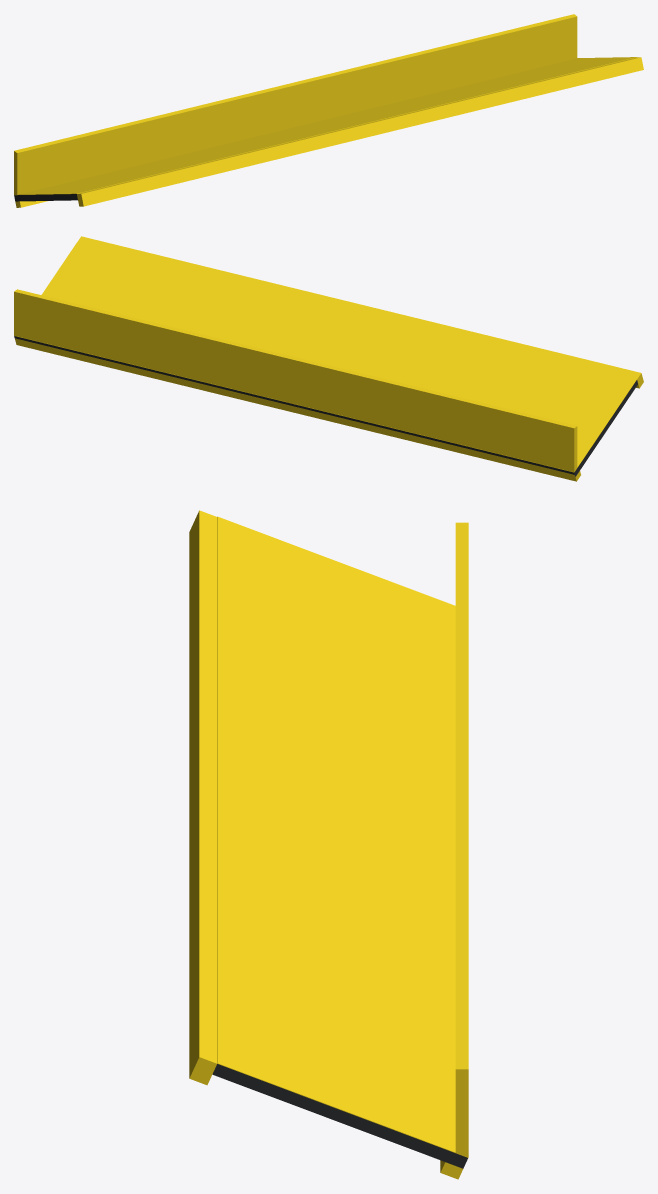
Rendered from tinker.obj.
3 renders of one model, top to bottom at view 1: azimuth 30°, elevation 25°; view 2: azimuth 150°, elevation 25°; view 3: azimuth 270°, elevation 25°, orthographic. The views are drawn at different scales.
Parts seen in each view (by area): view 1: group_0_16768282, group_0_2829873; view 2: group_0_16768282, group_0_2829873; view 3: group_0_16768282, group_0_2829873.
Boxes of the visible parts, <box> form: group_0_16768282: <box>14,14,643,207</box>; group_0_2829873: <box>14,194,77,201</box>; group_0_16768282: <box>14,236,643,481</box>; group_0_2829873: <box>14,336,637,476</box>; group_0_16768282: <box>189,510,468,1179</box>; group_0_2829873: <box>212,1064,467,1168</box>.
Bounding box in the file's own units: 200 × 20.92 × 43.14.
